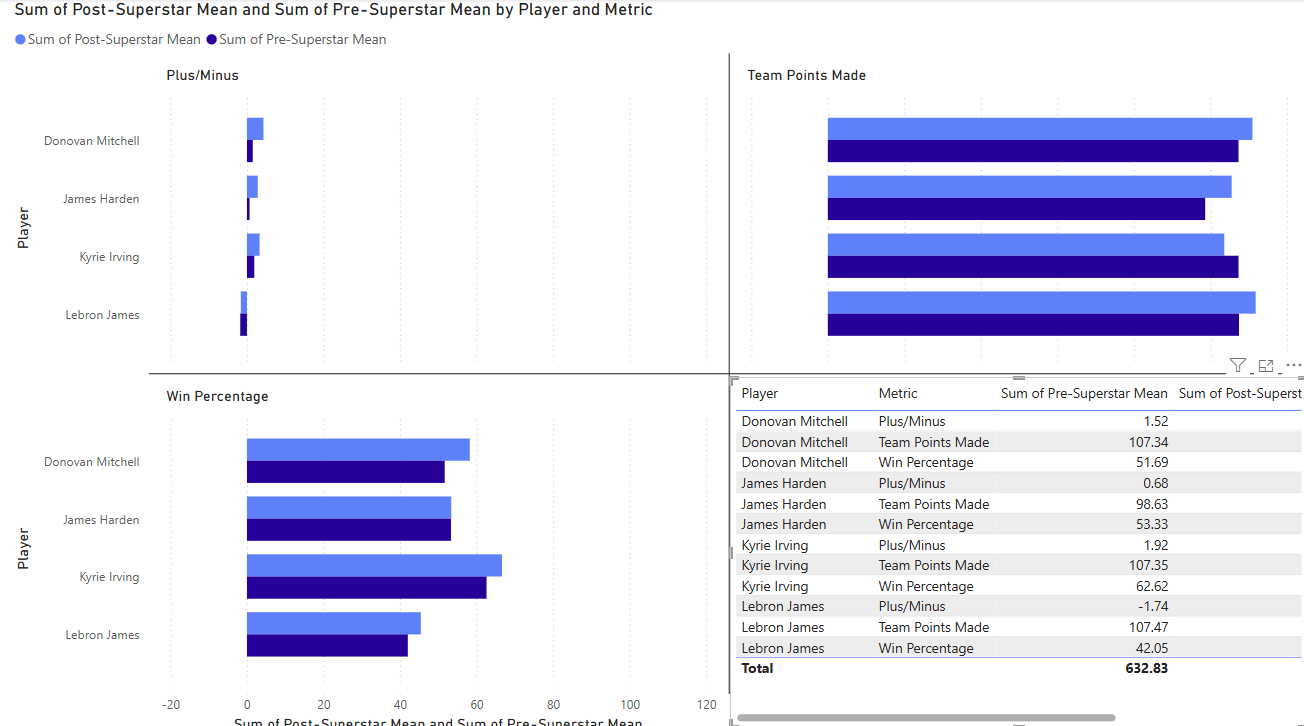

The page's visual inventory and layout, read from the dashboard file:
{"tool":"powerbi","page":{"name":"Page 1","canvas":[1280,720],"ordinal":0},"visuals":[{"type":"clusteredBarChart","fields":{"Category":["Combined_Player_analysis_results.Player"],"Y":["Combined_Player_analysis_results.Post-Superstar Mean","Combined_Player_analysis_results.Pre-Superstar Mean"],"Rows":["Combined_Player_analysis_results.Metric"]},"box":[9.7,0,1270.3,719.8],"z":0},{"type":"tableEx","fields":{"Values":["Combined_Player_analysis_results.Player","Combined_Player_analysis_results.Metric","Combined_Player_analysis_results.Pre-Superstar Mean","Combined_Player_analysis_results.Post-Superstar Mean","Combined_Player_analysis_results.P-value","Combined_Player_analysis_results.T-statistic"]},"box":[711,367.7,561.2,341.4],"z":1}]}

Visuals, with their boxes in screenshot pixels (x1, y1, x2, y2), scaled from the page's 1280x720 canvas onto the 1304x726 screenshot:
clusteredBarChart - Combined_Player_analysis_results.Player x Combined_Player_analysis_results.Post-Superstar Mean: Rect(10, 0, 1303, 725)
tableEx - Combined_Player_analysis_results.Player x Combined_Player_analysis_results.Metric: Rect(724, 371, 1296, 715)
